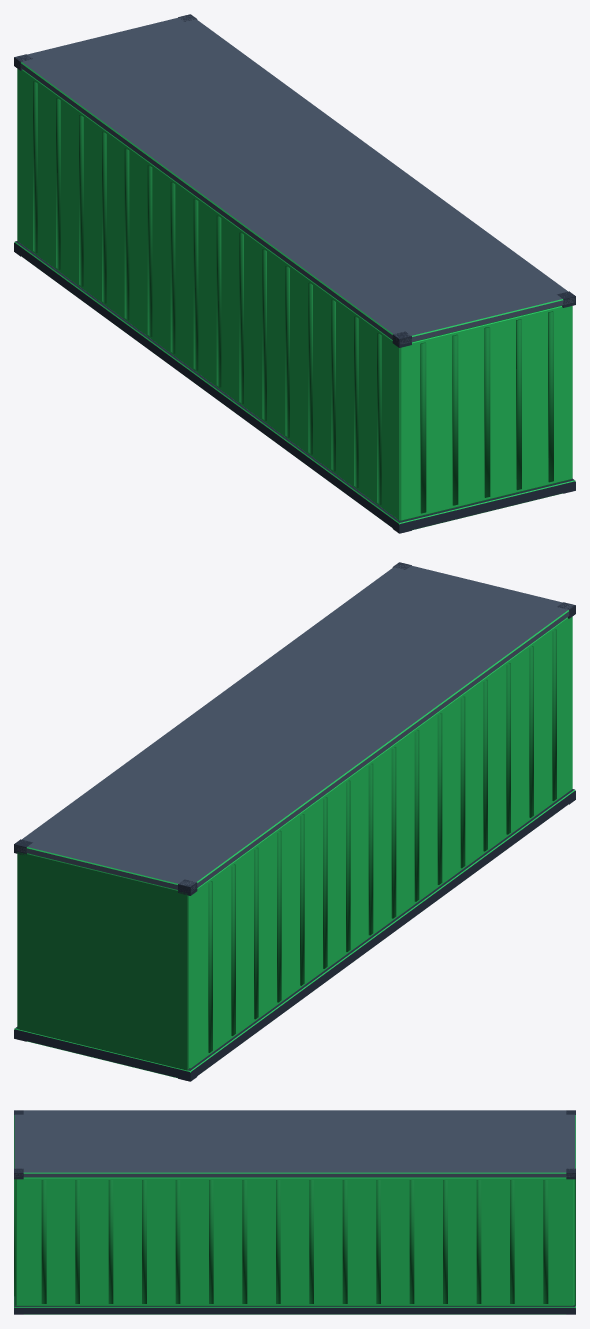
The model's file is container_31ft.glb.
3 views of the same model, one above another, from view 1: azimuth 30°, elevation 25°; view 2: azimuth 150°, elevation 25°; view 3: azimuth 270°, elevation 25° (orthographic). The views are drawn at different scales.
Parts seen in each view (by area): view 1: container_31ft; view 2: container_31ft; view 3: container_31ft.
Part boxes in pixels (x1,y1,x2,y2): container_31ft: (14, 14, 575, 533); container_31ft: (14, 562, 575, 1081); container_31ft: (14, 1110, 575, 1314).
Bounding box in the file's own units: 2.49 × 2.62 × 9.41.
